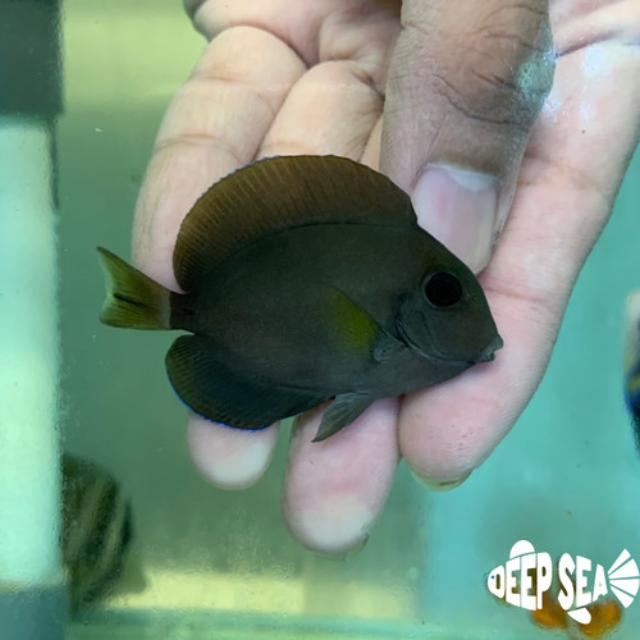Mulut: (453, 310, 529, 392)
Sirip Anal: (159, 317, 317, 435)
Sirip Dada: (290, 252, 400, 368)
Sirip Ekor: (80, 228, 190, 352)
Sirip Perut: (302, 386, 391, 450)
Sirip Punggung: (172, 141, 428, 281)
